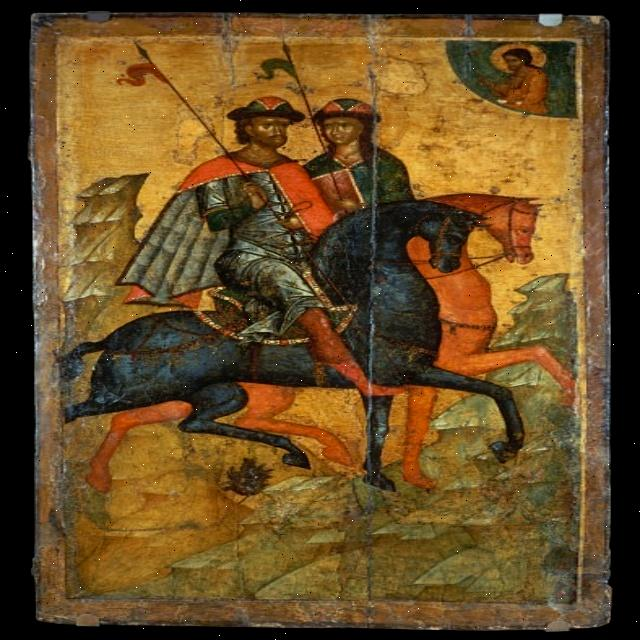aura: (489, 40, 549, 71)
horse: (60, 200, 486, 468), (396, 176, 561, 494)
saint: (124, 58, 391, 407), (296, 73, 411, 204), (463, 36, 570, 114)
spear: (120, 33, 224, 142), (271, 36, 318, 98)
